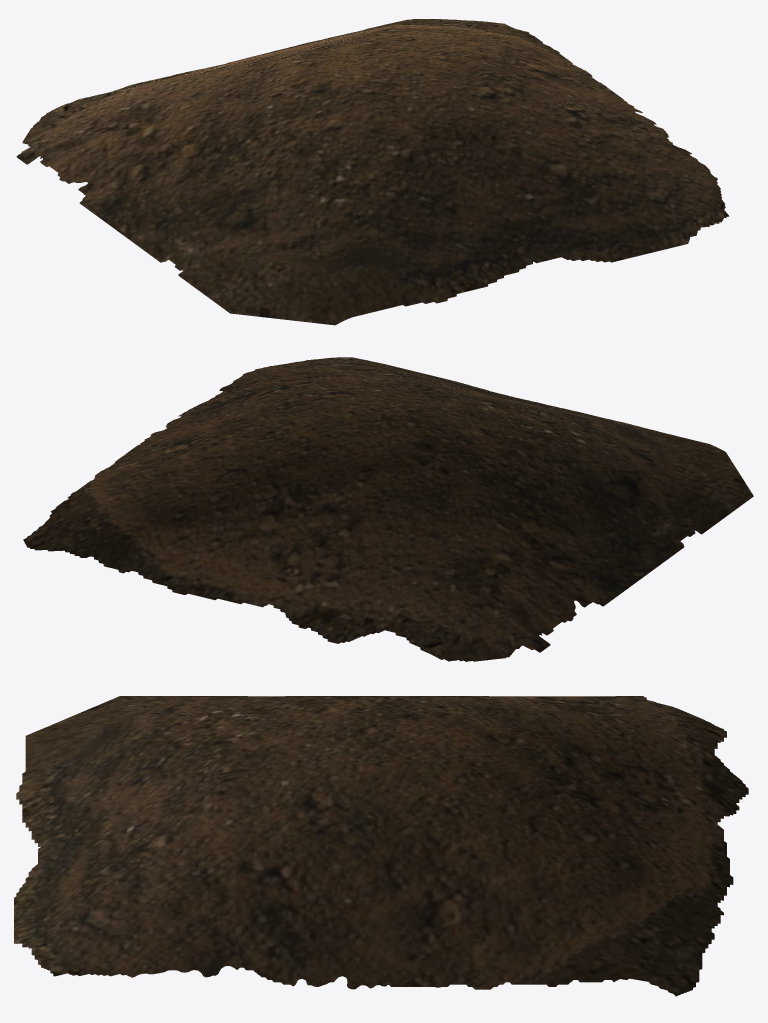
File: burrow.obj
3 views of the same model, one above another, from view 1: azimuth 30°, elevation 25°; view 2: azimuth 150°, elevation 25°; view 3: azimuth 270°, elevation 25° (orthographic). The views are drawn at different scales.
Parts seen in each view (by area): view 1: material_0; view 2: material_0; view 3: material_0.
Part boxes in pixels (x1,y1,x2,y2): material_0: (16,19,729,325); material_0: (23,357,753,661); material_0: (14,696,748,996).
Bounding box in the file's own units: 167 × 27.12 × 167.
